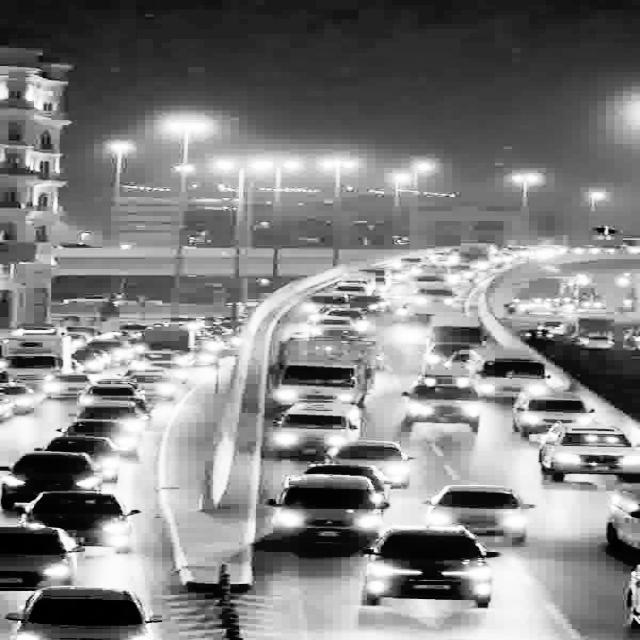Ambulance: (402, 366, 491, 431)
